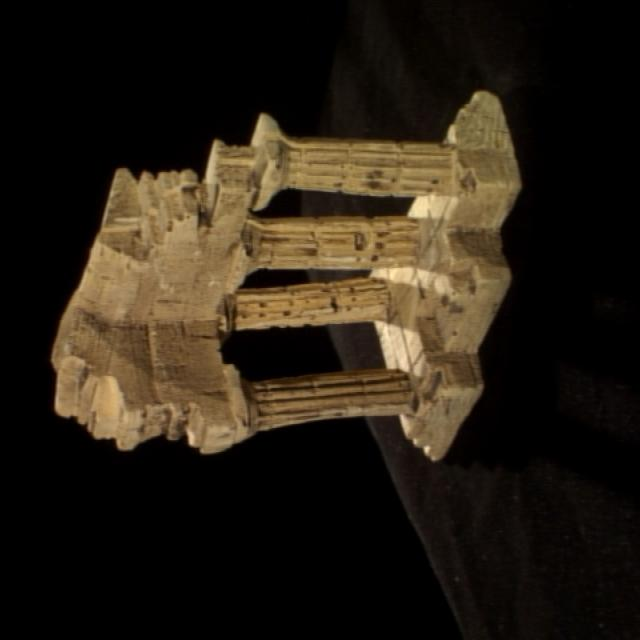Instance-Segmentation: (54, 91, 520, 459)
